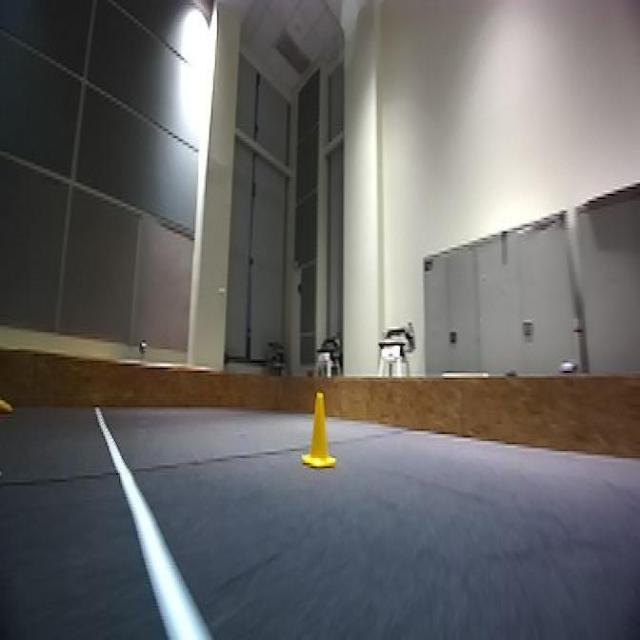frc_cone: (305, 393, 342, 472)
